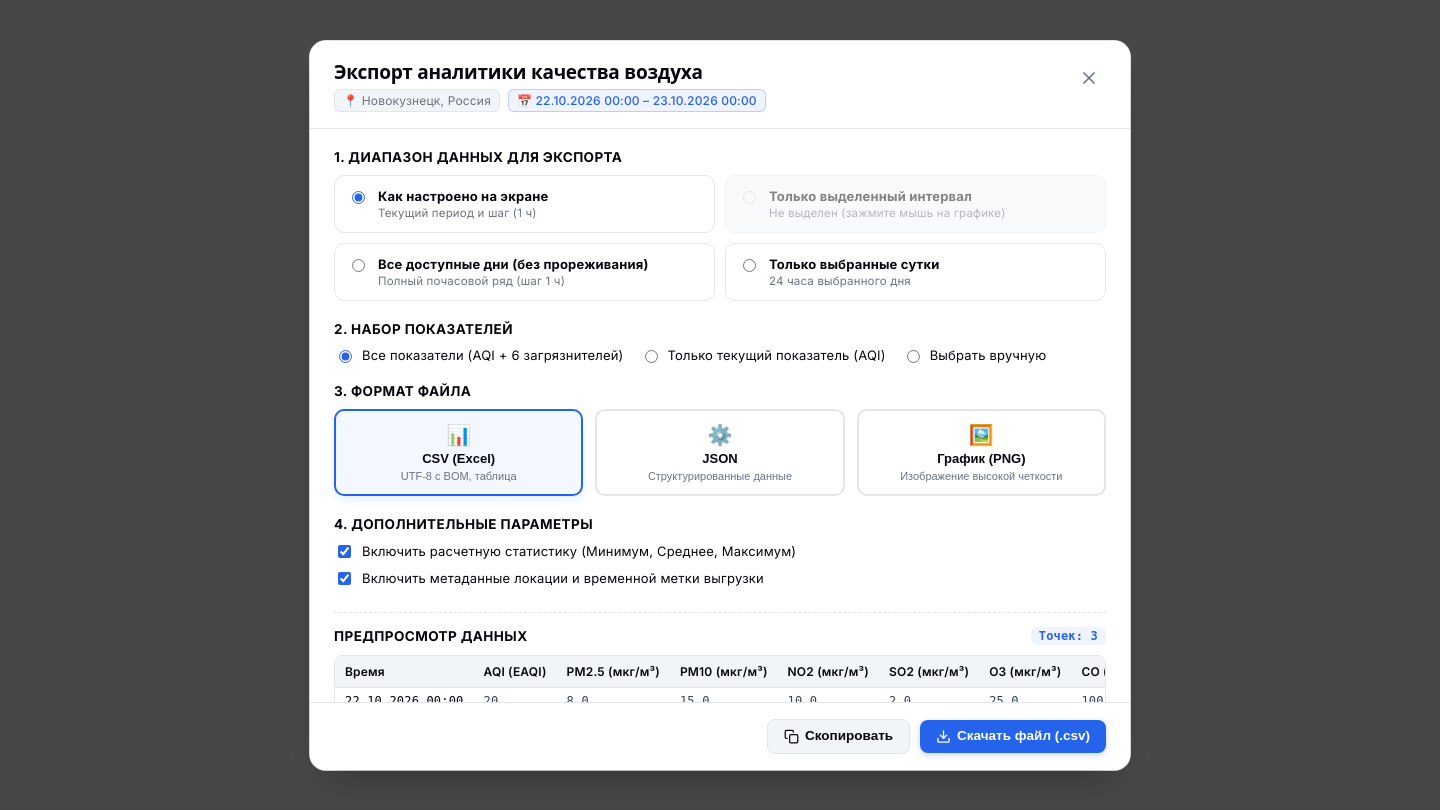
Test: AnalyticsExportModal component › triggers copy to clipboard and displays success badge
Click the button with test id "copy-to-clipboard-btn" at (839, 736), box [767,718,910,754]
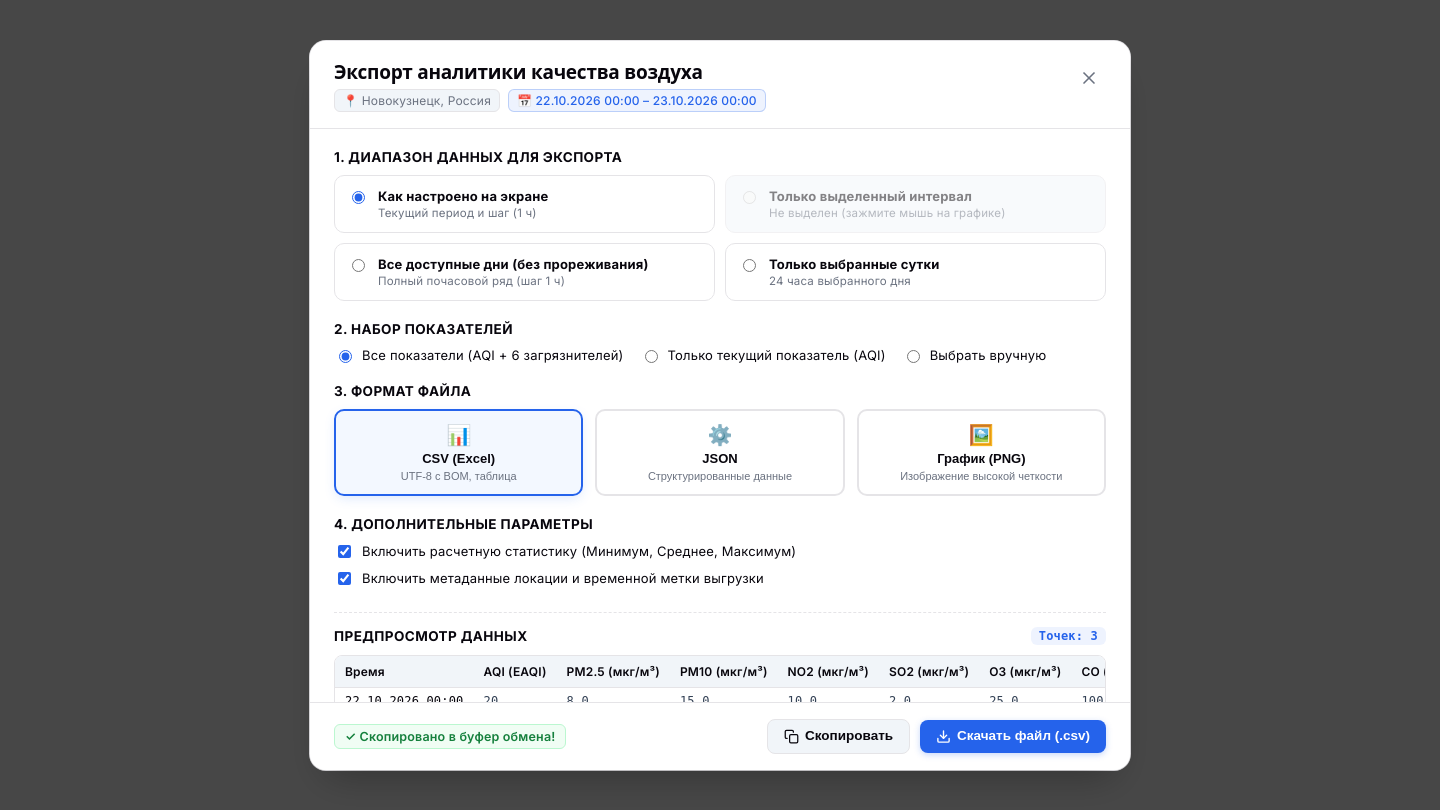
Expected: the text "✓ Скопировано в буфер обмена!" is shown, [334,724,566,748]
